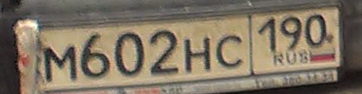character: (145, 28, 183, 79), (41, 41, 81, 85), (79, 31, 114, 81), (113, 28, 146, 77), (214, 31, 247, 74), (182, 32, 214, 75), (304, 10, 329, 52), (278, 14, 303, 52), (256, 16, 278, 56)
